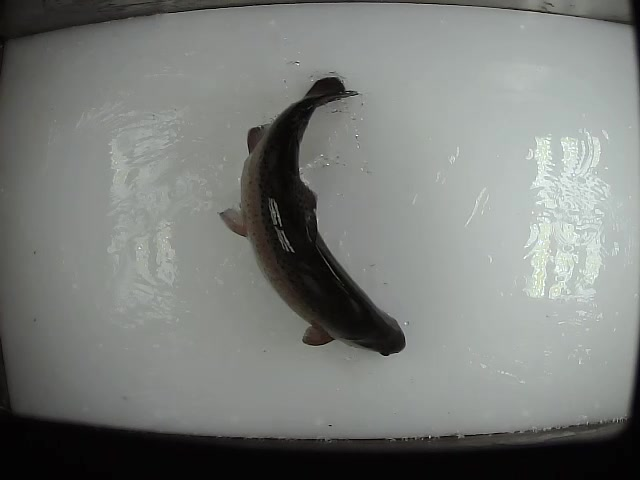fish: (216, 70, 410, 359)
